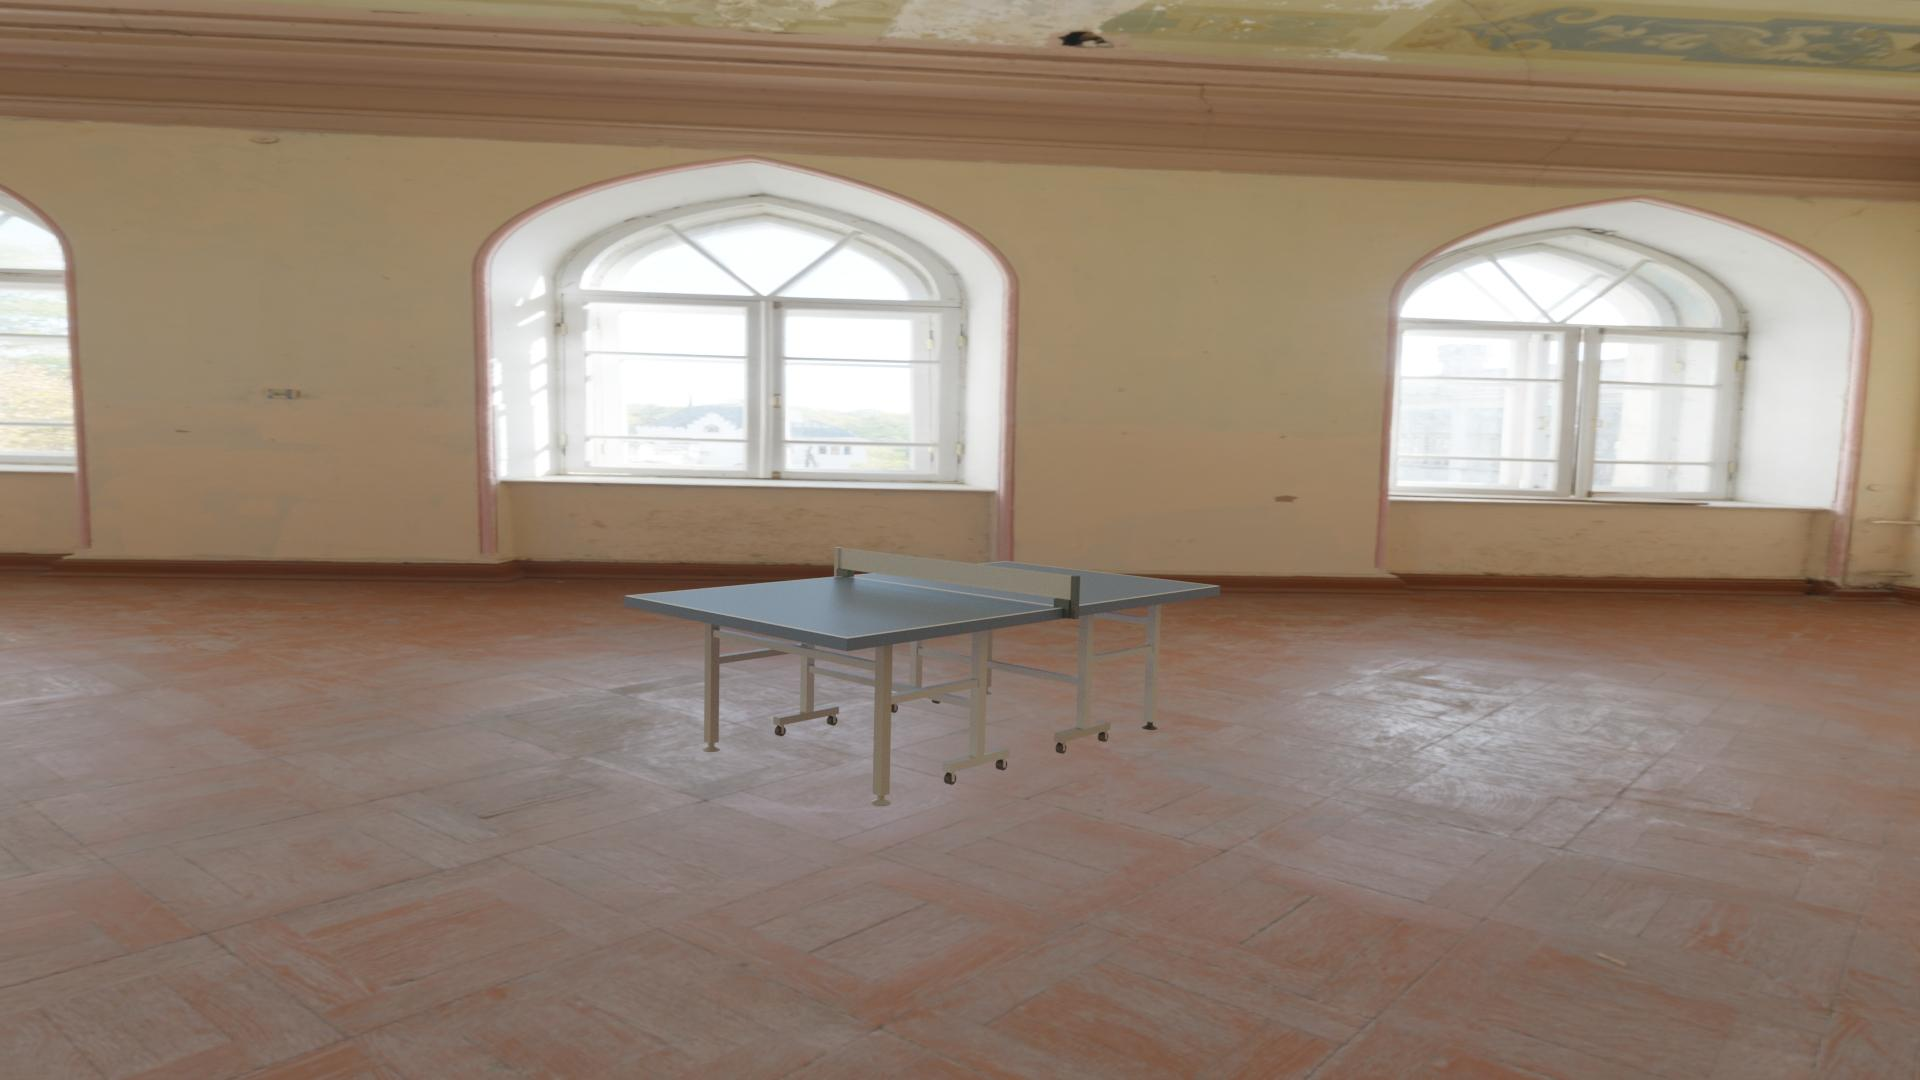table: (630, 562, 1216, 637)
